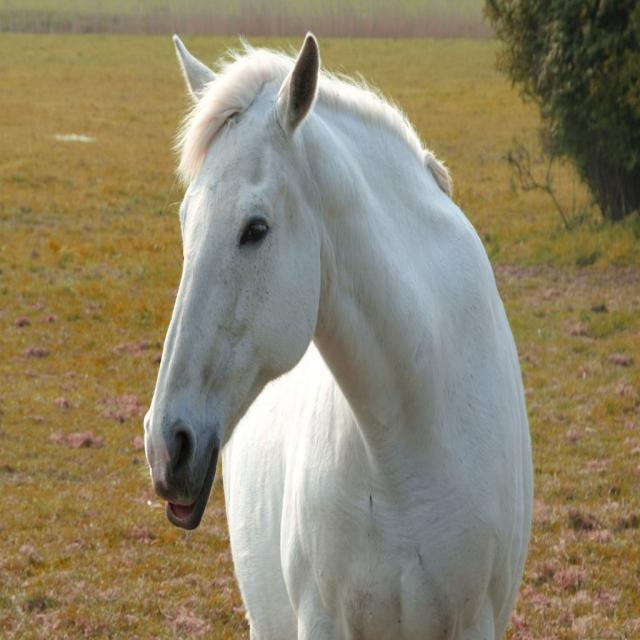Horse: (136, 28, 534, 639)
